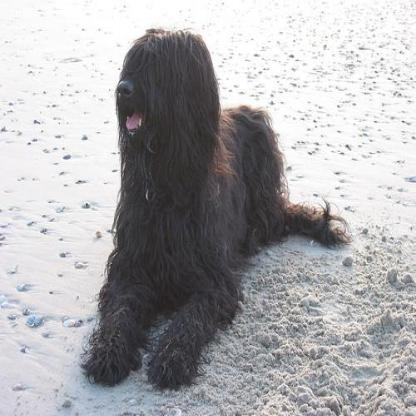briard: (80, 29, 348, 393)
